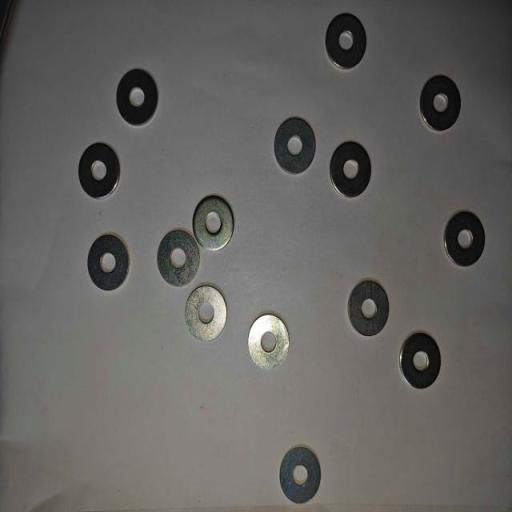washer: (156, 229, 200, 287), (86, 233, 130, 291), (398, 332, 442, 390), (443, 210, 486, 268), (184, 284, 227, 342), (278, 446, 321, 504), (116, 68, 158, 127), (274, 116, 316, 175), (78, 141, 120, 200), (348, 278, 390, 337), (324, 13, 367, 70), (419, 75, 462, 132), (329, 141, 372, 198), (247, 313, 290, 370), (192, 194, 234, 252)
